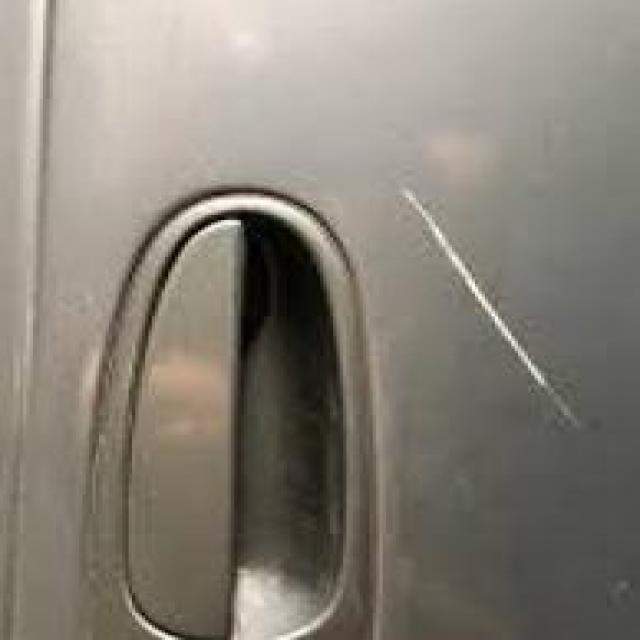scratch: (384, 176, 599, 444)
